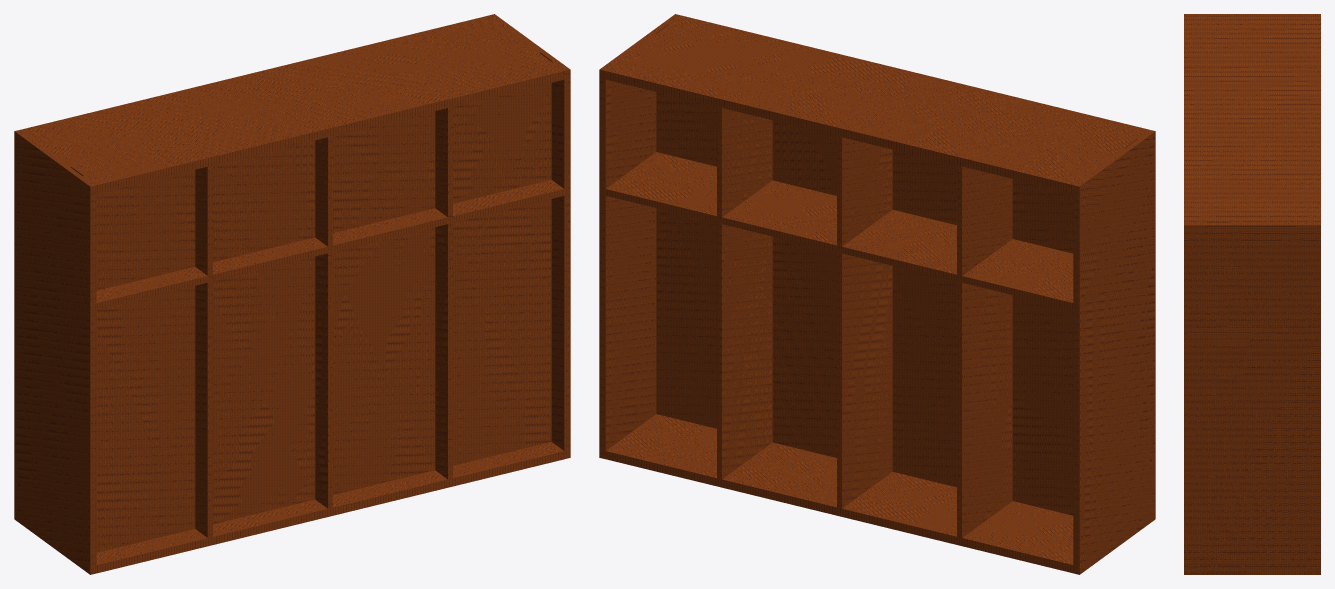
The picture shows the model from 3 angles, left to right: view 1: azimuth 30°, elevation 25°; view 2: azimuth 150°, elevation 25°; view 3: azimuth 270°, elevation 25°; orthographic projection. The views are drawn at different scales.
Visible parts, largest first — view 1: mesh39_mesh39-geometry, mesh67_mesh67-geometry, mesh7_mesh7-geometry, mesh35_mesh35-geometry, mesh53_mesh53-geometry, mesh101_mesh101-geometry, mesh123_mesh123-geometry, mesh99_mesh99-geometry, mesh81_mesh81-geometry, mesh21_mesh21-geometry, mesh3_mesh3-geometry, mesh121_mesh121-geometry (+8 smaller); view 2: mesh123_mesh123-geometry, mesh40_mesh40-geometry, mesh35_mesh35-geometry, mesh101_mesh101-geometry, mesh95_mesh95-geometry, mesh97_mesh97-geometry, mesh68_mesh68-geometry, mesh8_mesh8-geometry, mesh110_mesh110-geometry, mesh99_mesh99-geometry, mesh93_mesh93-geometry, mesh33_mesh33-geometry (+8 smaller); view 3: mesh97_mesh97-geometry, mesh125_mesh125-geometry, mesh101_mesh101-geometry, mesh3_mesh3-geometry, mesh121_mesh121-geometry, mesh99_mesh99-geometry.
Part boxes in pixels (x1,y1,x2,y2): mesh39_mesh39-geometry: [213, 227, 435, 524]; mesh67_mesh67-geometry: [96, 286, 195, 552]; mesh7_mesh7-geometry: [453, 199, 551, 465]; mesh35_mesh35-geometry: [14, 252, 96, 574]; mesh53_mesh53-geometry: [213, 111, 435, 262]; mesh101_mesh101-geometry: [135, 43, 450, 165]; mesh123_mesh123-geometry: [195, 219, 452, 537]; mesh99_mesh99-geometry: [14, 129, 96, 307]; mesh81_mesh81-geometry: [96, 170, 195, 290]; mesh21_mesh21-geometry: [453, 83, 551, 203]; mesh3_mesh3-geometry: [21, 102, 210, 193]; mesh121_mesh121-geometry: [375, 15, 564, 107]; mesh123_mesh123-geometry: [717, 219, 1012, 537]; mesh40_mesh40-geometry: [772, 236, 956, 487]; mesh35_mesh35-geometry: [1073, 252, 1155, 574]; mesh101_mesh101-geometry: [719, 43, 1034, 165]; mesh95_mesh95-geometry: [717, 107, 1012, 279]; mesh97_mesh97-geometry: [599, 191, 656, 459]; mesh68_mesh68-geometry: [1012, 295, 1073, 515]; mesh8_mesh8-geometry: [656, 208, 716, 428]; mesh110_mesh110-geometry: [719, 442, 959, 545]; mesh99_mesh99-geometry: [1073, 129, 1155, 307]; mesh93_mesh93-geometry: [722, 180, 956, 281]; mesh33_mesh33-geometry: [605, 152, 1073, 309]; mesh97_mesh97-geometry: [1184, 334, 1320, 574]; mesh125_mesh125-geometry: [1184, 222, 1320, 334]; mesh101_mesh101-geometry: [1184, 66, 1320, 172]; mesh3_mesh3-geometry: [1184, 16, 1320, 66]; mesh121_mesh121-geometry: [1184, 172, 1320, 222]; mesh99_mesh99-geometry: [1184, 14, 1320, 16].
Bounding box in the file's own units: 0.7734 × 0.5974 × 0.212.
